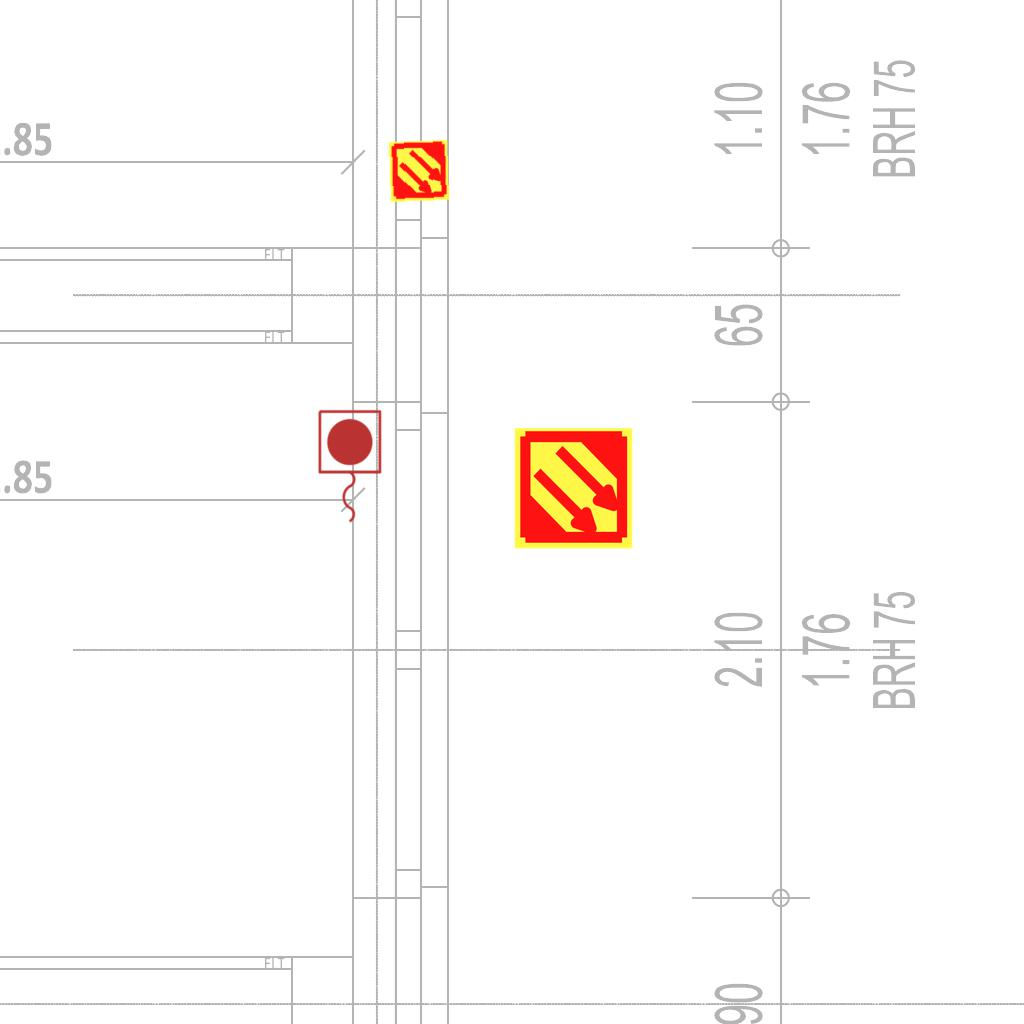ASR_Ansaugrauchmelder: (511, 426, 636, 551), (386, 138, 452, 204)
Zugtaster: (313, 406, 385, 528)
